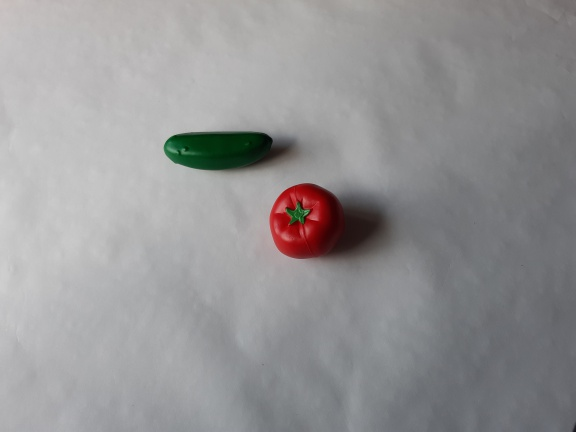cucumber: (158, 126, 283, 175)
tomato: (261, 180, 348, 263)
